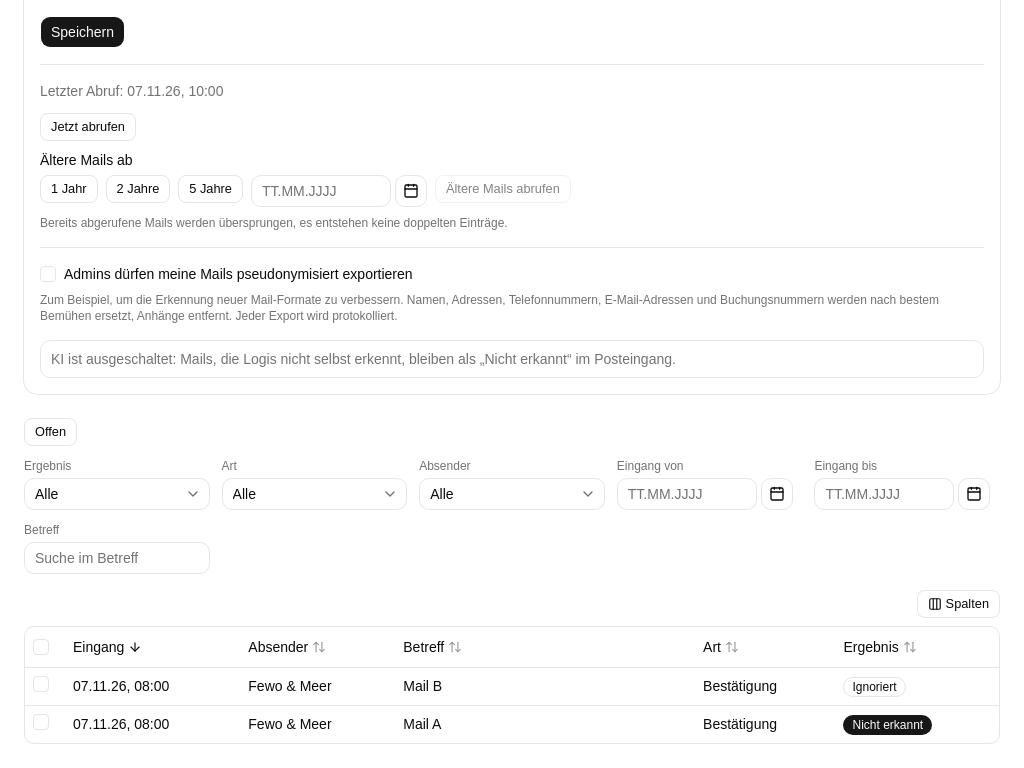
Scenario: Inbox › bulk actions › ignores and deletes selected mails, and reports mails that cannot be retried
The width and height of the screenshot is (1024, 768).
(page scrolled)
What coordinates should you click on to do the following:
click the checkbox named "Alle auf dieser Seite auswählen"
I would click on:
 (41, 647)
Its box is [33,639,49,655].
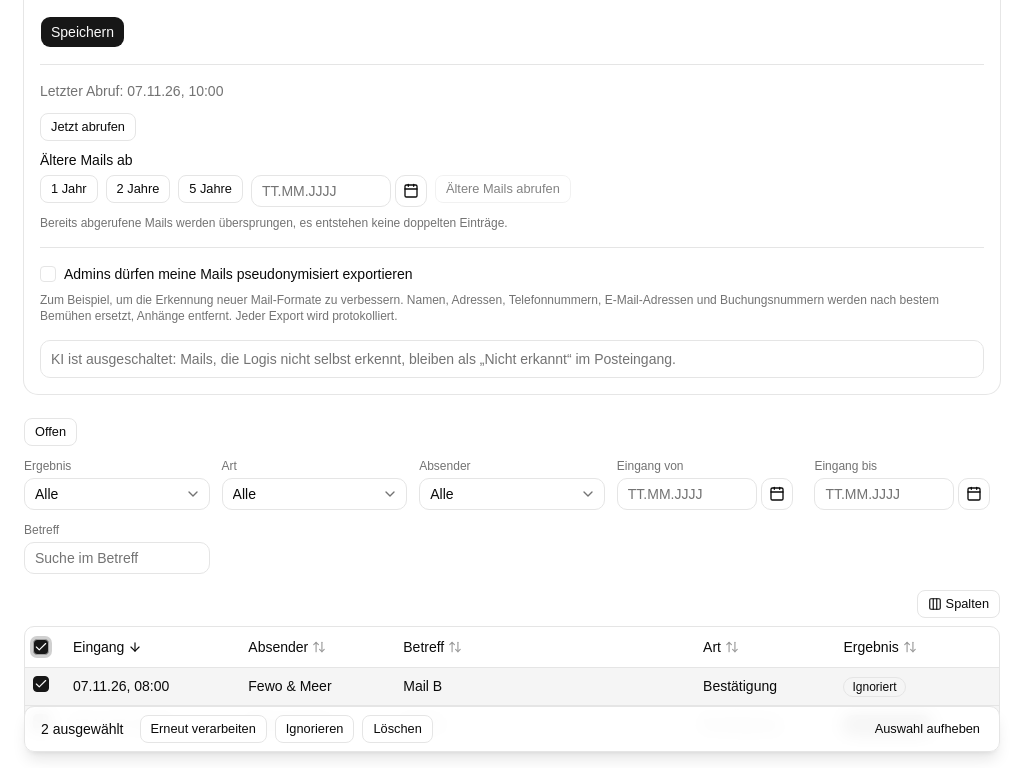
What coordinates should you click on to do the following:
click the button "Erneut verarbeiten"
I would click on:
 (203, 729)
Its box is [140,715,267,743].
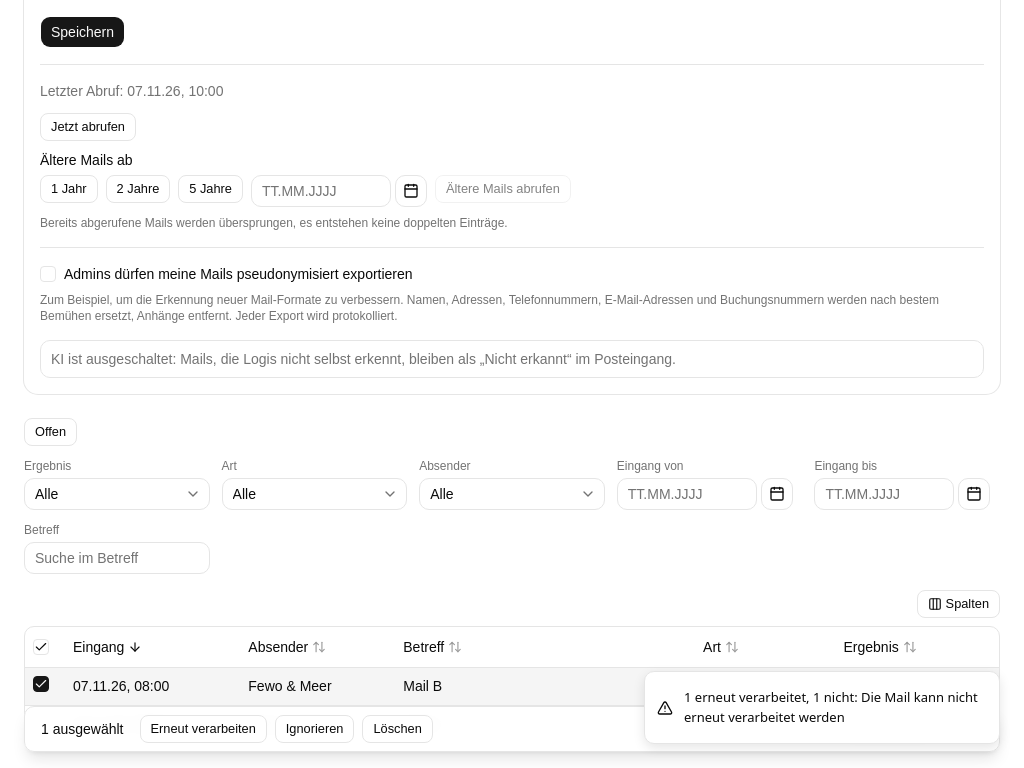
Result: the text "1 erneut verarbeitet, 1 nicht: Die Mail kann nicht erneut verarbeitet werden" is shown at [684,688,983,727]
Result: the text "1 ausgewählt" is shown at [41,721,124,737]
What coordinates should you click on to do the following:
click the checkbox named "Alle auf dieser Seite auswählen"
I would click on:
 (41, 647)
Its box is [33,639,49,655].
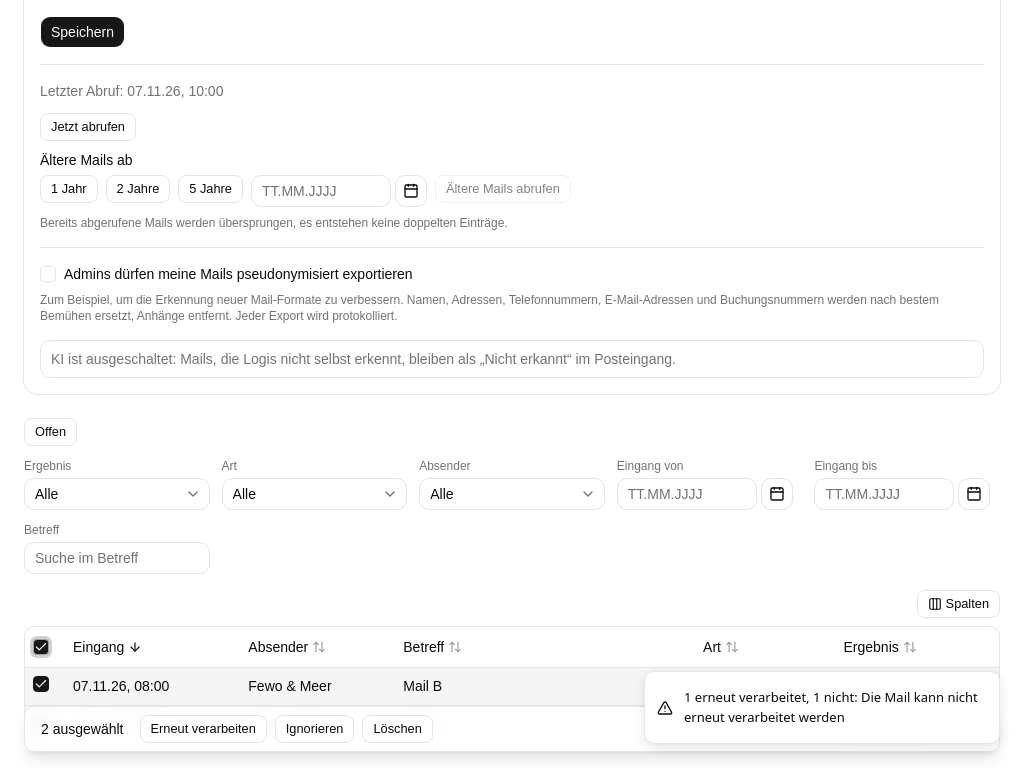
What coordinates should you click on to do the following:
click the button "Löschen"
I would click on:
 (398, 729)
Its box is [362,715,433,743].
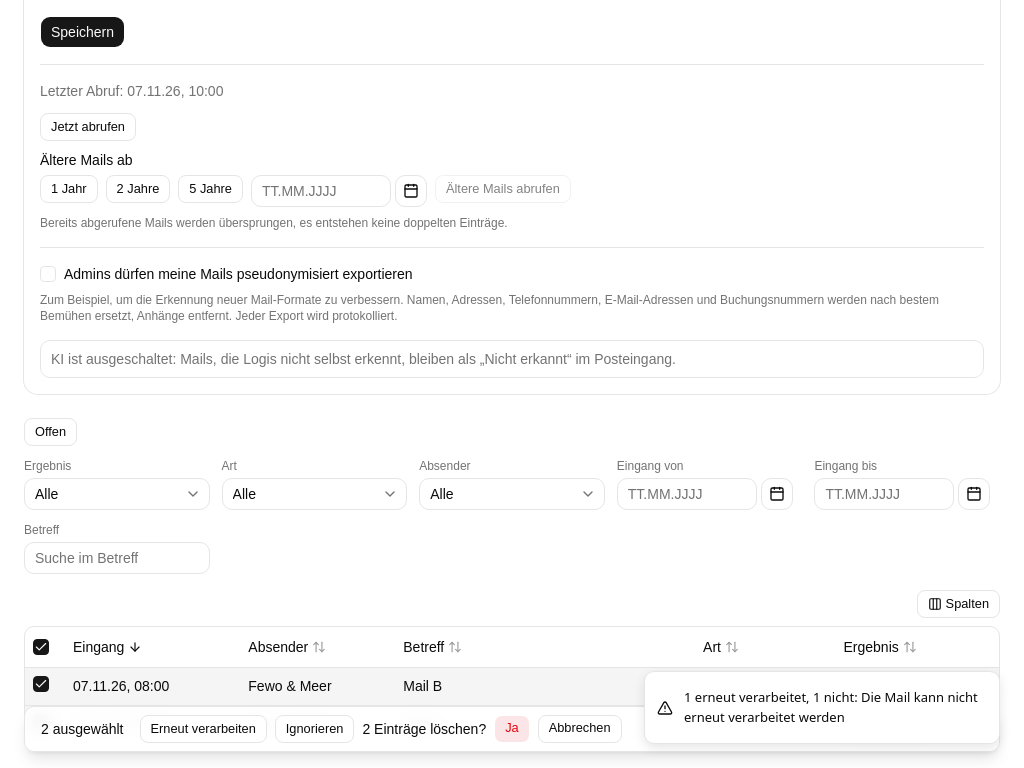
What coordinates should you click on to do the following:
click the button "Ja"
I would click on:
 (512, 729)
Its box is [494,715,530,743].
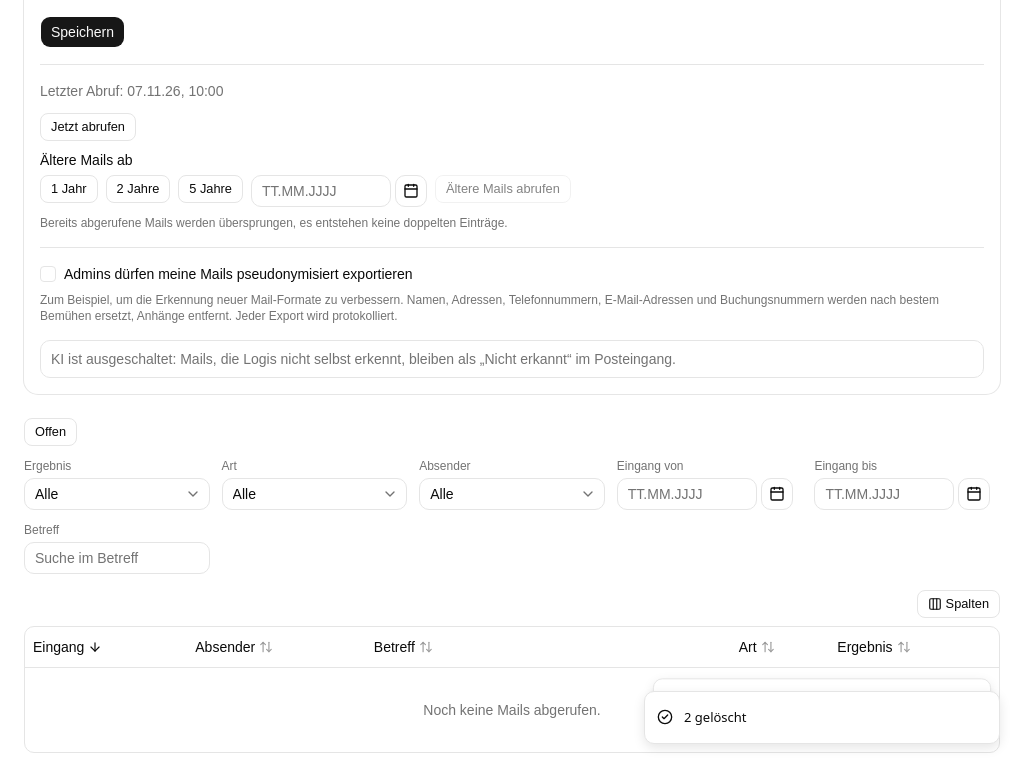
Result: the text "2 gelöscht" is shown at [684,708,747,727]
